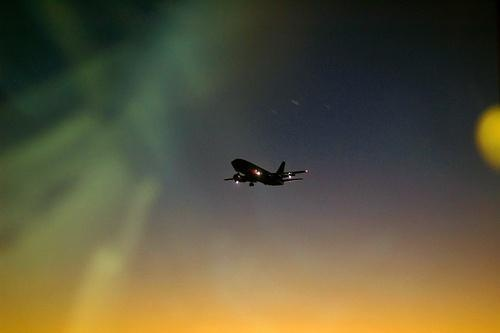aeroplane: (222, 153, 312, 192)
